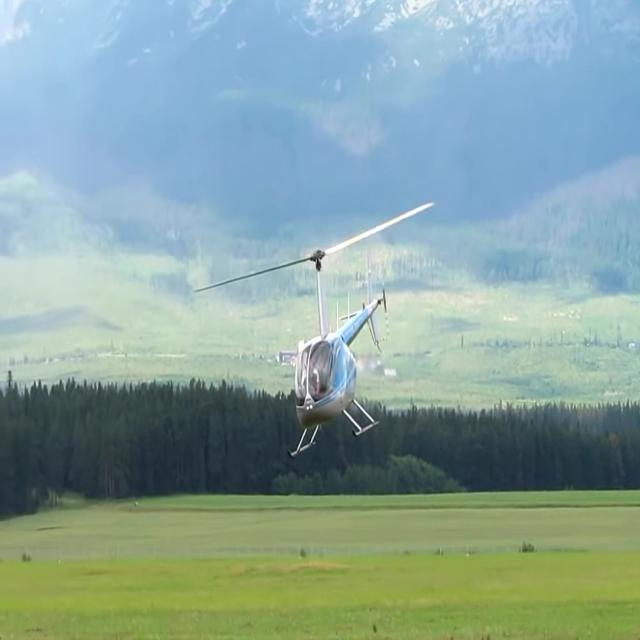CIV_HELO: (288, 248, 387, 458)
